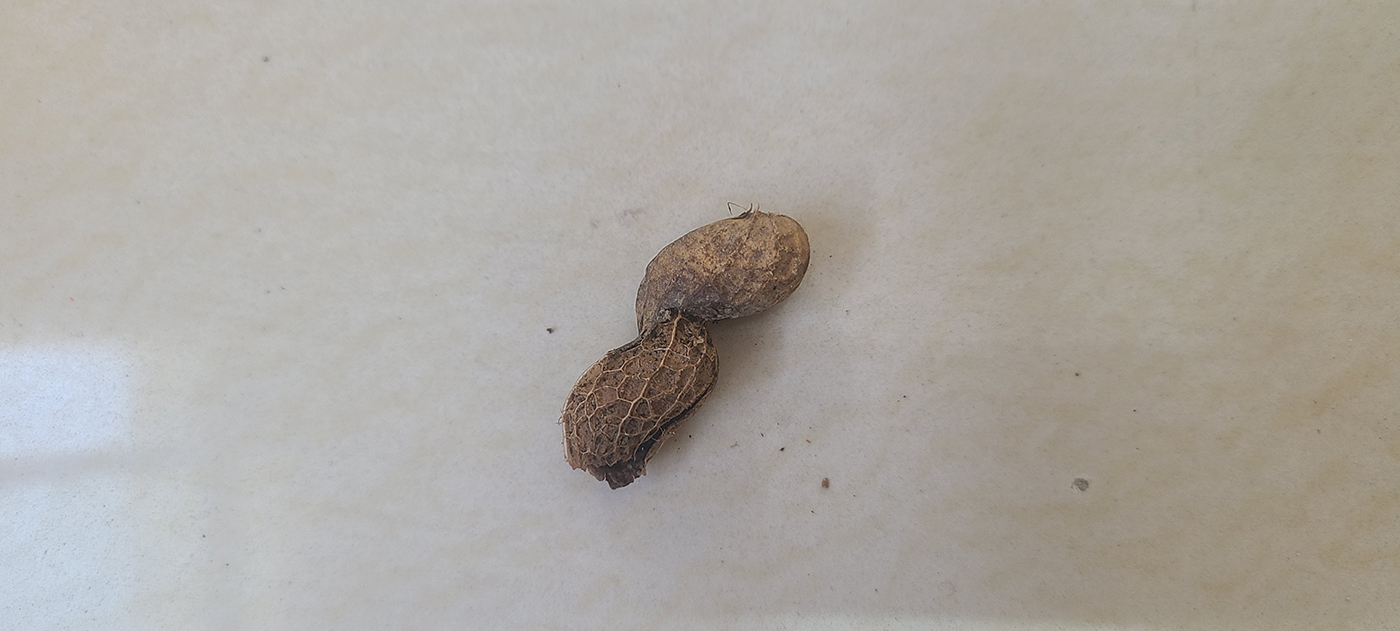l: (567, 207, 812, 490)
